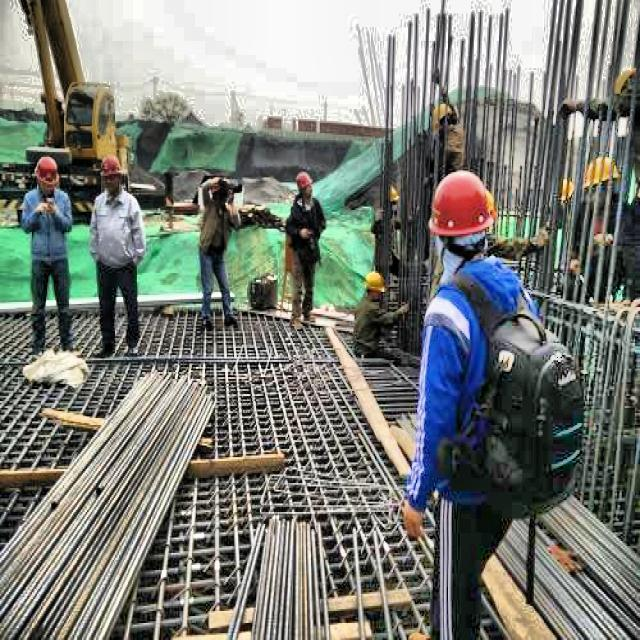helmet: (422, 163, 503, 270), (586, 155, 620, 212), (33, 148, 63, 198), (101, 150, 126, 198), (361, 264, 387, 309), (432, 99, 456, 140), (293, 166, 316, 207)
